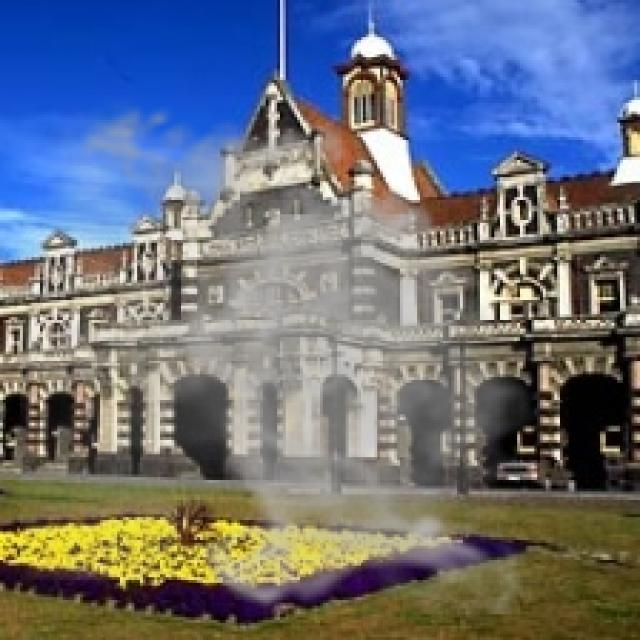smoke: (20, 91, 551, 614)
